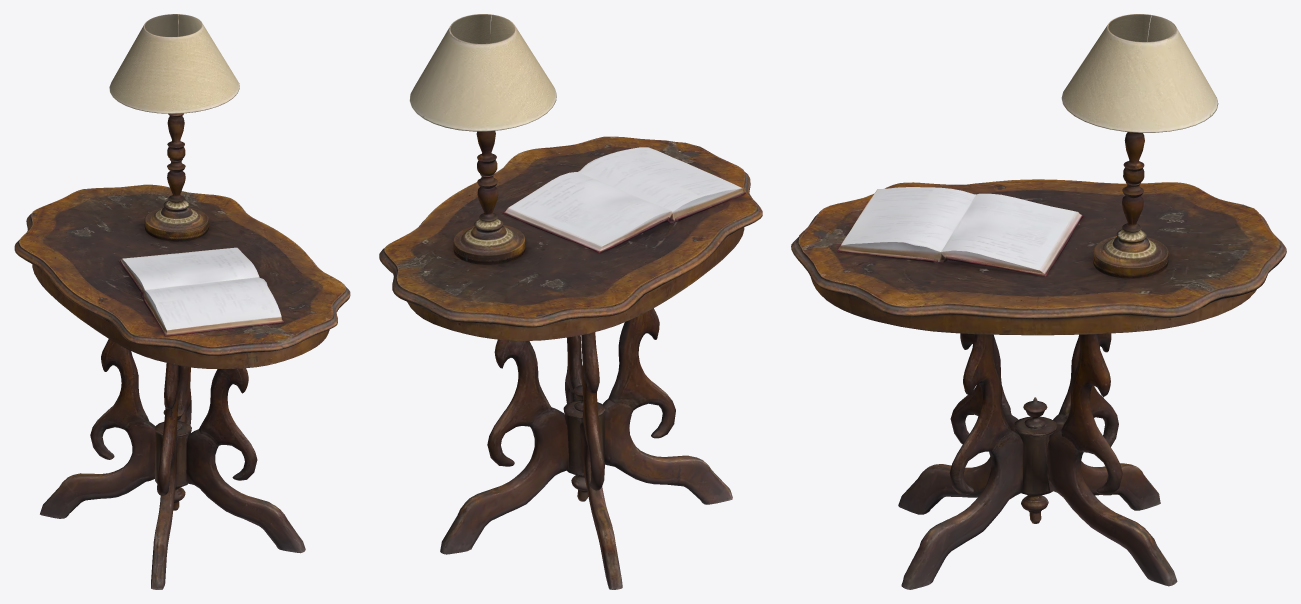
File: table_from_a_gothic_library.glb
3 renders of one model, left to right at view 1: azimuth 30°, elevation 25°; view 2: azimuth 150°, elevation 25°; view 3: azimuth 270°, elevation 25°, orthographic. The views are drawn at different scales.
Visible parts, largest first — view 1: Object_3; view 2: Object_3; view 3: Object_3.
Part boxes in pixels (box(x1,y1,x2,y2)): Object_3: box(14, 14, 350, 589); Object_3: box(379, 14, 762, 589); Object_3: box(791, 14, 1286, 589).
Bounding box in the file's own units: 0.7023 × 1.37 × 1.12.
2 materials, 1 textured.
